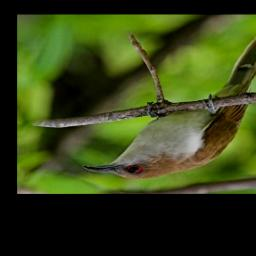Cuckoo: (82, 28, 256, 180)
